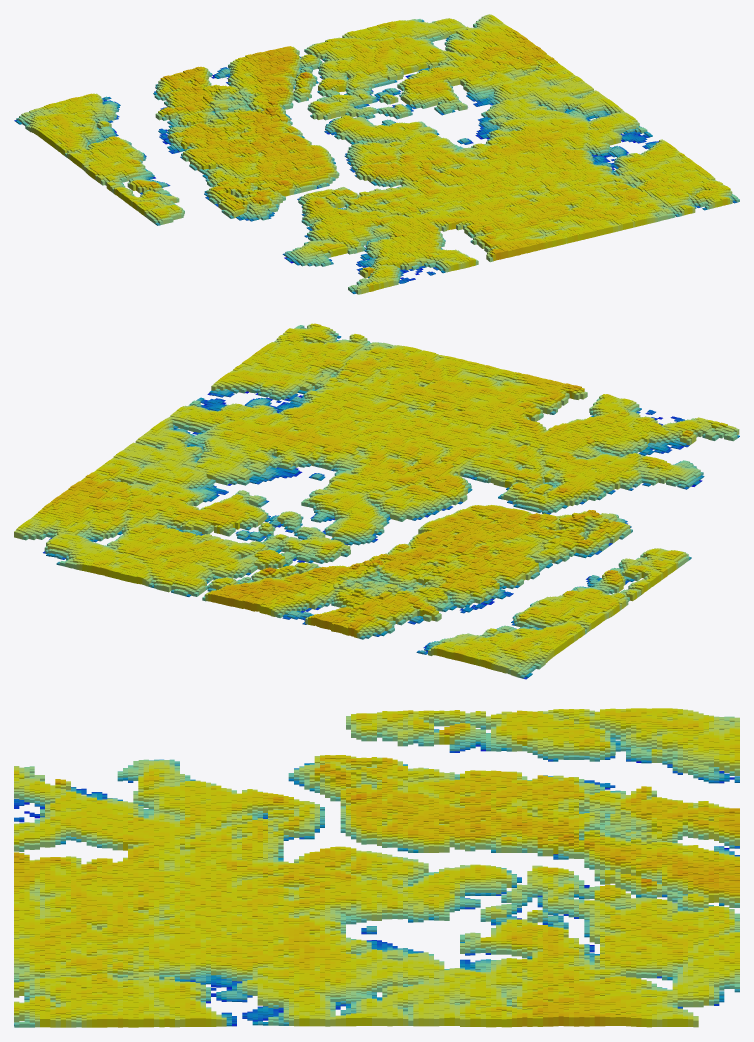
File: population.glb
3 views of the same model, one above another, from view 1: azimuth 30°, elevation 25°; view 2: azimuth 150°, elevation 25°; view 3: azimuth 270°, elevation 25° (orthographic). The views are drawn at different scales.
Visible parts, largest first — view 1: population; view 2: population; view 3: population.
Part boxes in pixels (<box>): population: <box>14,14,739,294</box>; population: <box>14,323,739,679</box>; population: <box>14,708,739,1027</box>.
Bounding box in the file's own units: 14051 × 362 × 13969.
